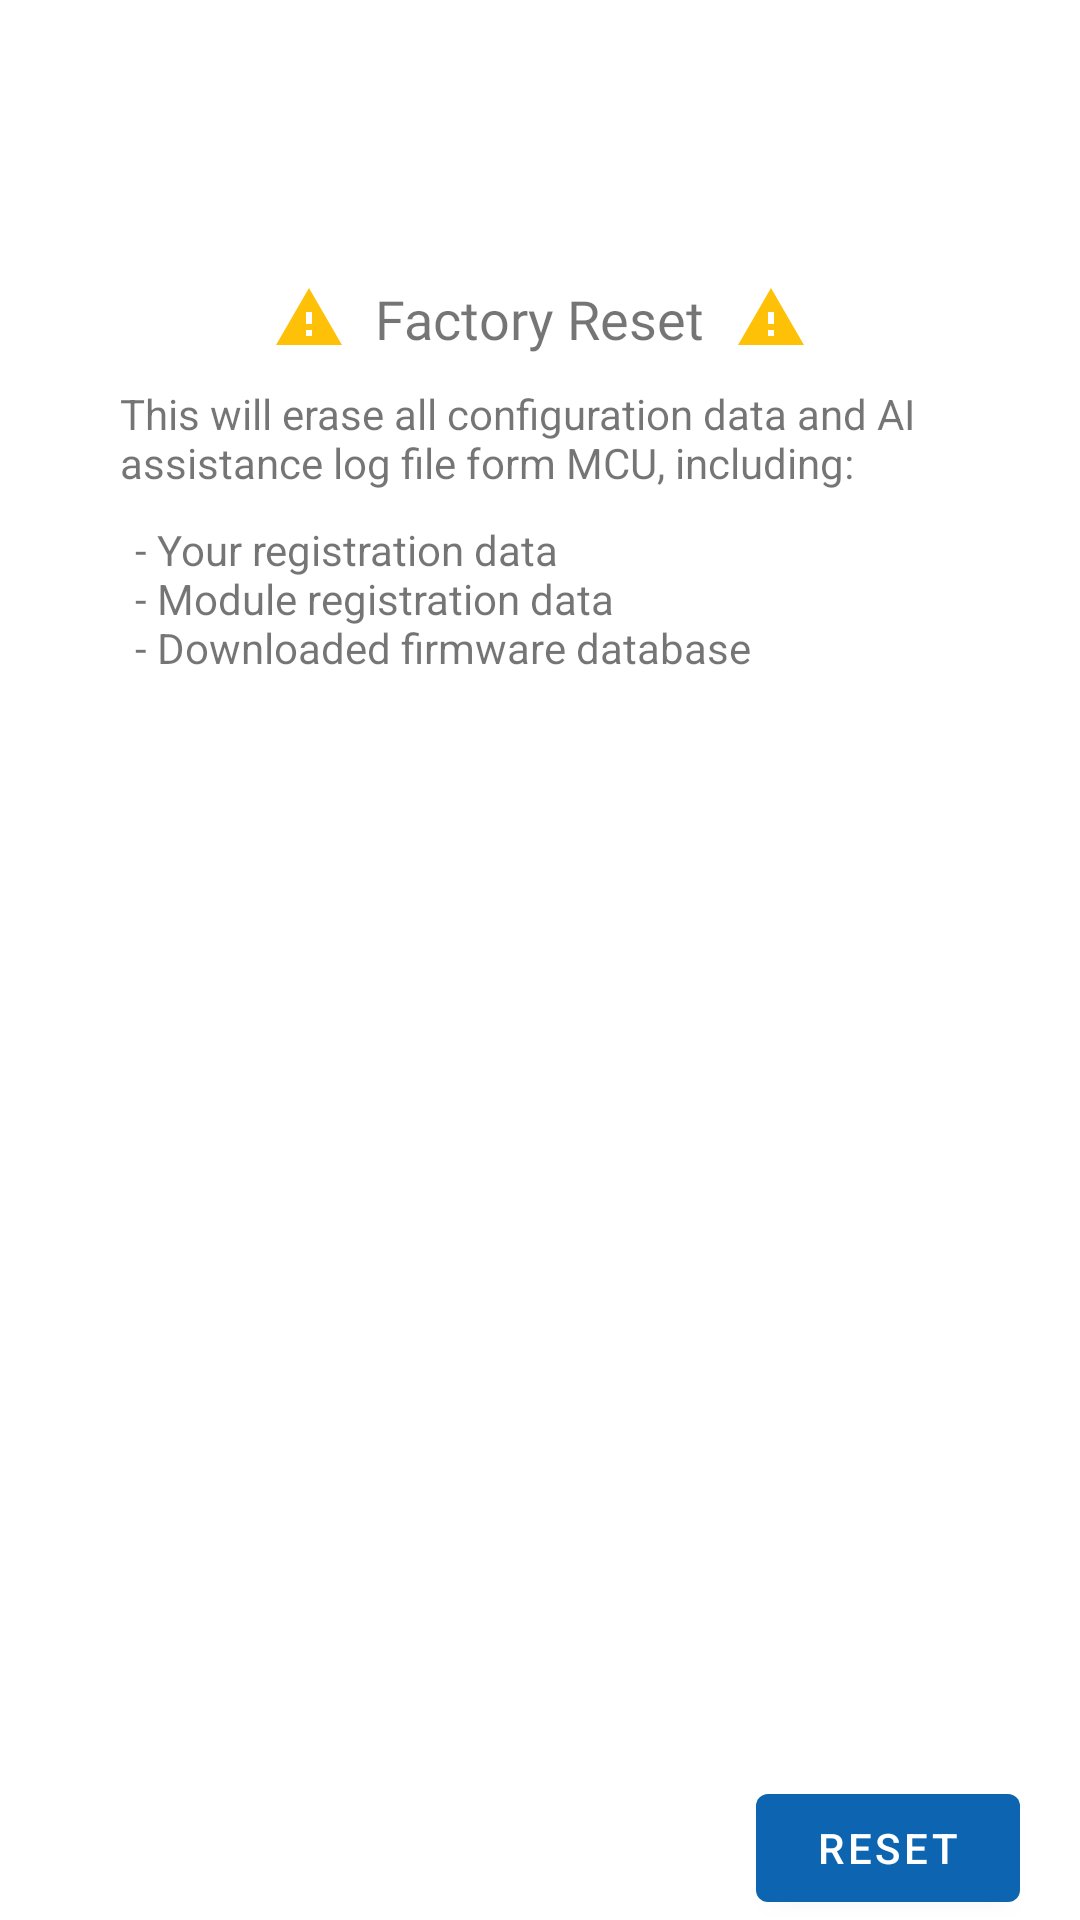

Icon bounding boxes for this 1080 x 1920 phone screenshot, format (left=x1, top=y1, right=x2, bottom=y2):
warning: (left=276, top=288, right=342, bottom=345), (left=738, top=288, right=804, bottom=345)
